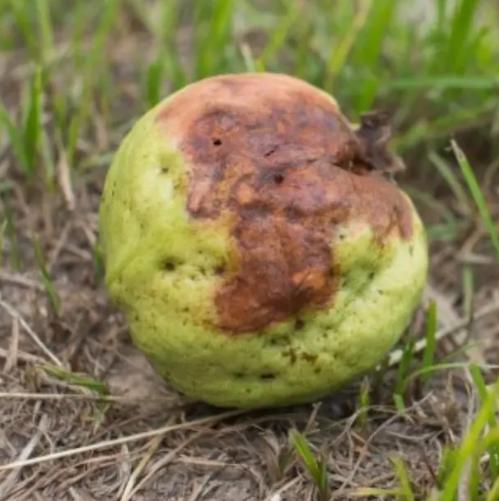guava_C: (99, 71, 431, 408)
